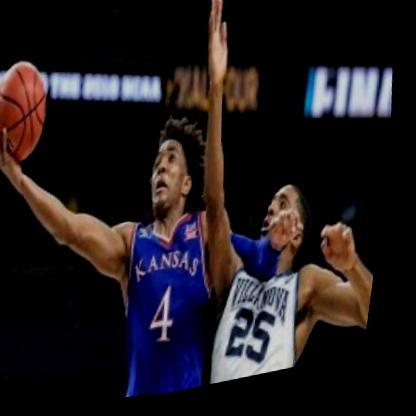basketball: (0, 49, 65, 172)
